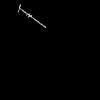treble_crochet: (19, 7, 31, 16)
